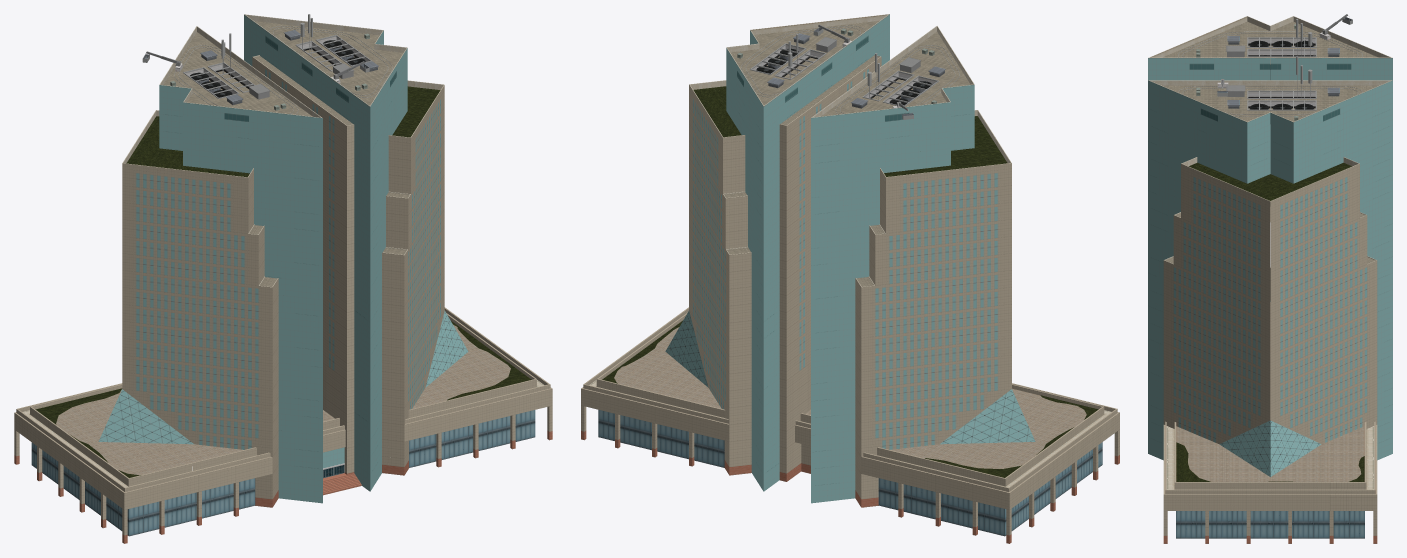
The model's file is ncci_towers_riyadh.glb.
The picture shows the model from 3 angles, left to right: view 1: azimuth 30°, elevation 25°; view 2: azimuth 150°, elevation 25°; view 3: azimuth 270°, elevation 25°; orthographic projection. The views are drawn at different scales.
Parts seen in each view (by area): view 1: NCCItowers_01 - Default_0; view 2: NCCItowers_01 - Default_0; view 3: NCCItowers_01 - Default_0.
Part boxes in pixels (left/top/right/bottom): NCCItowers_01 - Default_0: left=14, top=14, right=552, bottom=543; NCCItowers_01 - Default_0: left=581, top=14, right=1119, bottom=543; NCCItowers_01 - Default_0: left=1148, top=14, right=1392, bottom=543.
Bounding box in the file's own units: 11752 × 10945 × 6000.
1 material, 1 textured.
